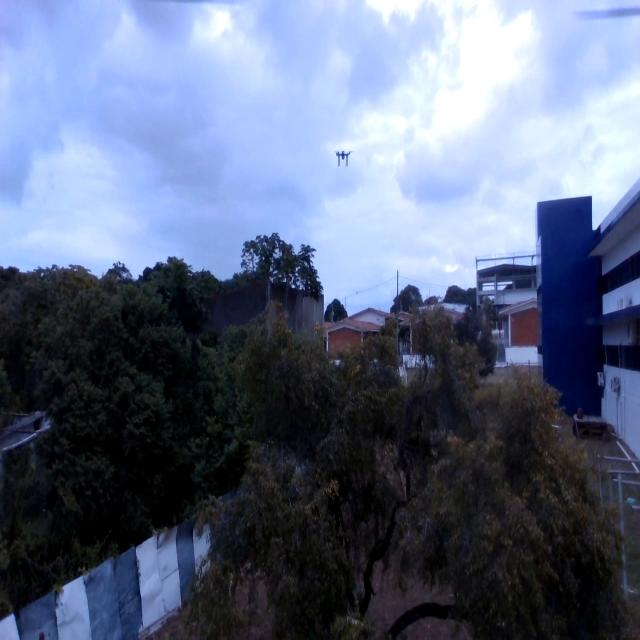-uav-: (332, 141, 354, 179)
